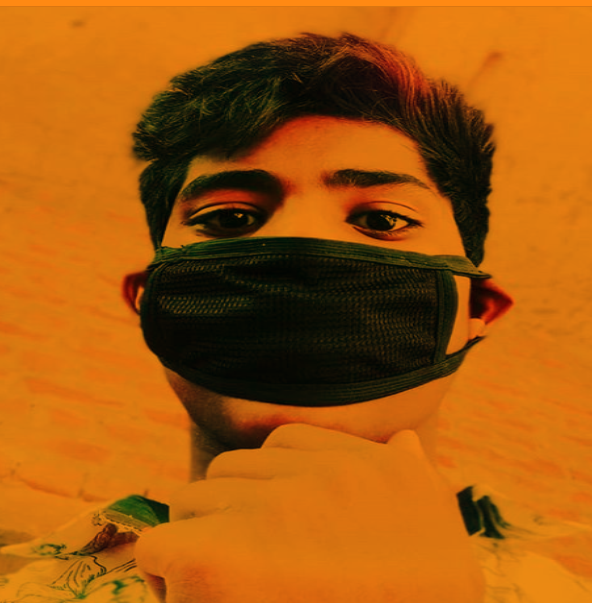mask_weared_incorrect: (118, 34, 508, 457)
